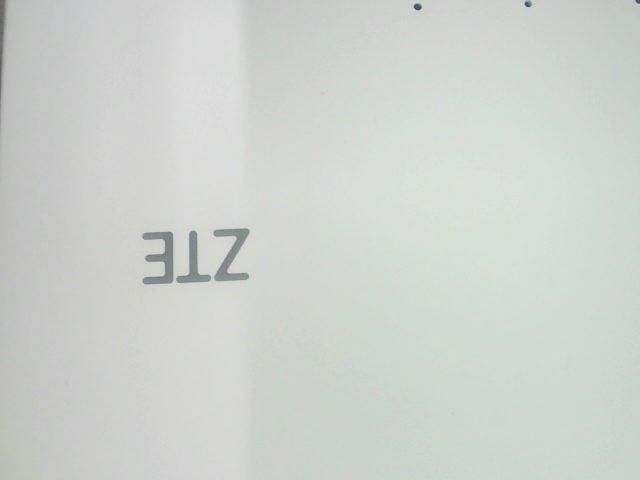AO_ZTESmall: (125, 219, 260, 296)
